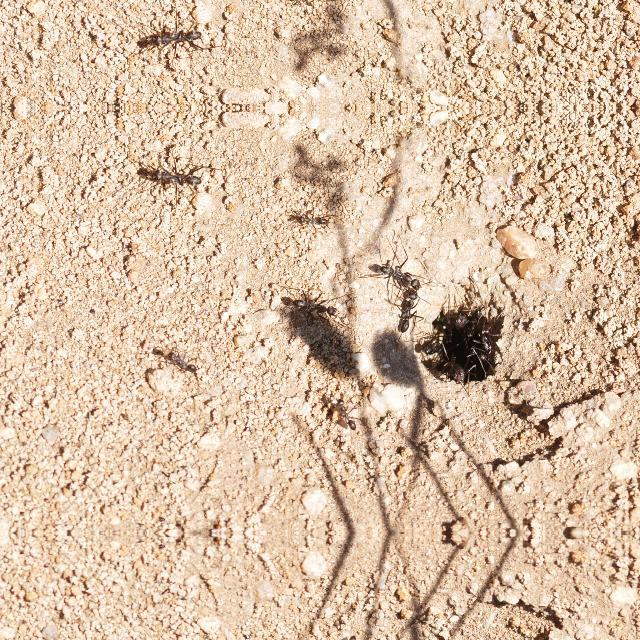Cataglyphis: (132, 156, 214, 192), (132, 22, 214, 58), (276, 285, 348, 321), (359, 252, 427, 290), (388, 286, 430, 334), (472, 321, 506, 372), (326, 394, 364, 434), (280, 207, 334, 230), (162, 347, 204, 375), (448, 306, 474, 334), (422, 331, 444, 361), (324, 630, 364, 640), (278, 0, 333, 6)
